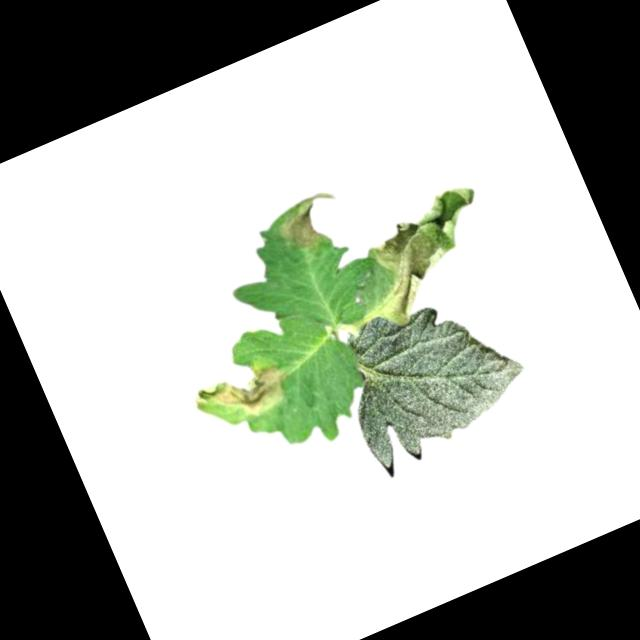Late_blight: (318, 178, 513, 345), (189, 355, 299, 441), (270, 186, 351, 256)
healthy: (323, 273, 543, 476)
